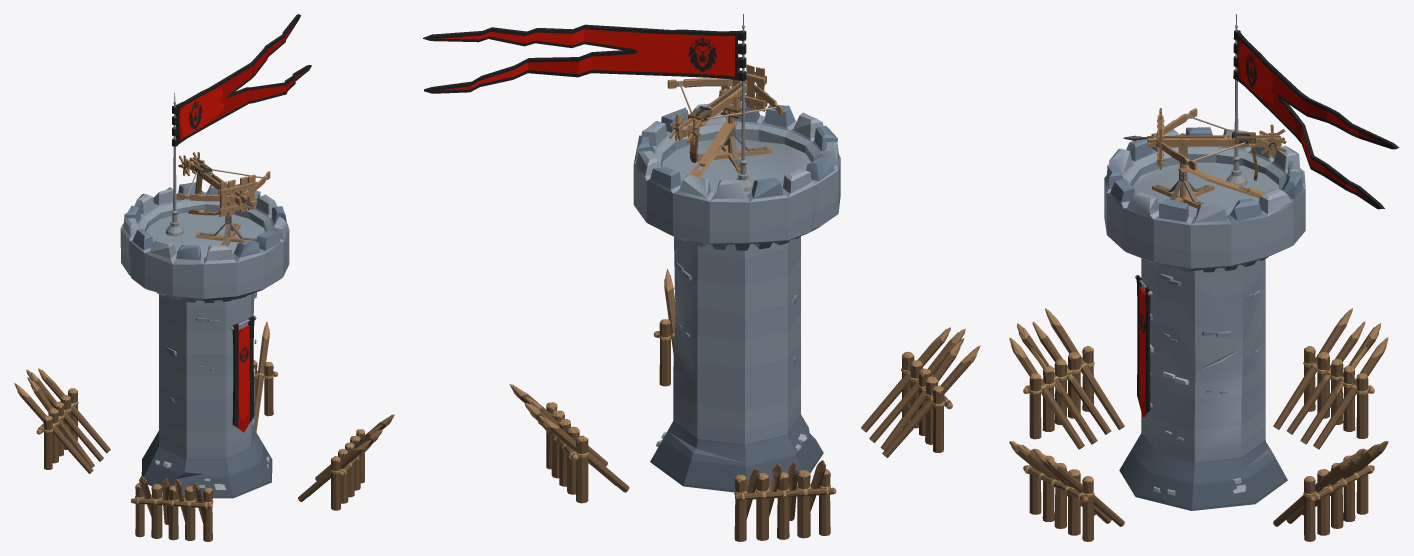
Rendered from Attacker.fbx.
3 views of the same model, side by side, from view 1: azimuth 30°, elevation 25°; view 2: azimuth 150°, elevation 25°; view 3: azimuth 270°, elevation 25° (orthographic). The views are drawn at different scales.
Parts seen in each view (by area): view 1: Attacker; view 2: Attacker; view 3: Attacker.
Boxes of the visible parts, box(x1,y1,x2,y2) form: Attacker: box(14, 14, 394, 541); Attacker: box(423, 14, 980, 541); Attacker: box(1009, 14, 1399, 541).
Size of the model in its own units: 195 by 228 by 176.
